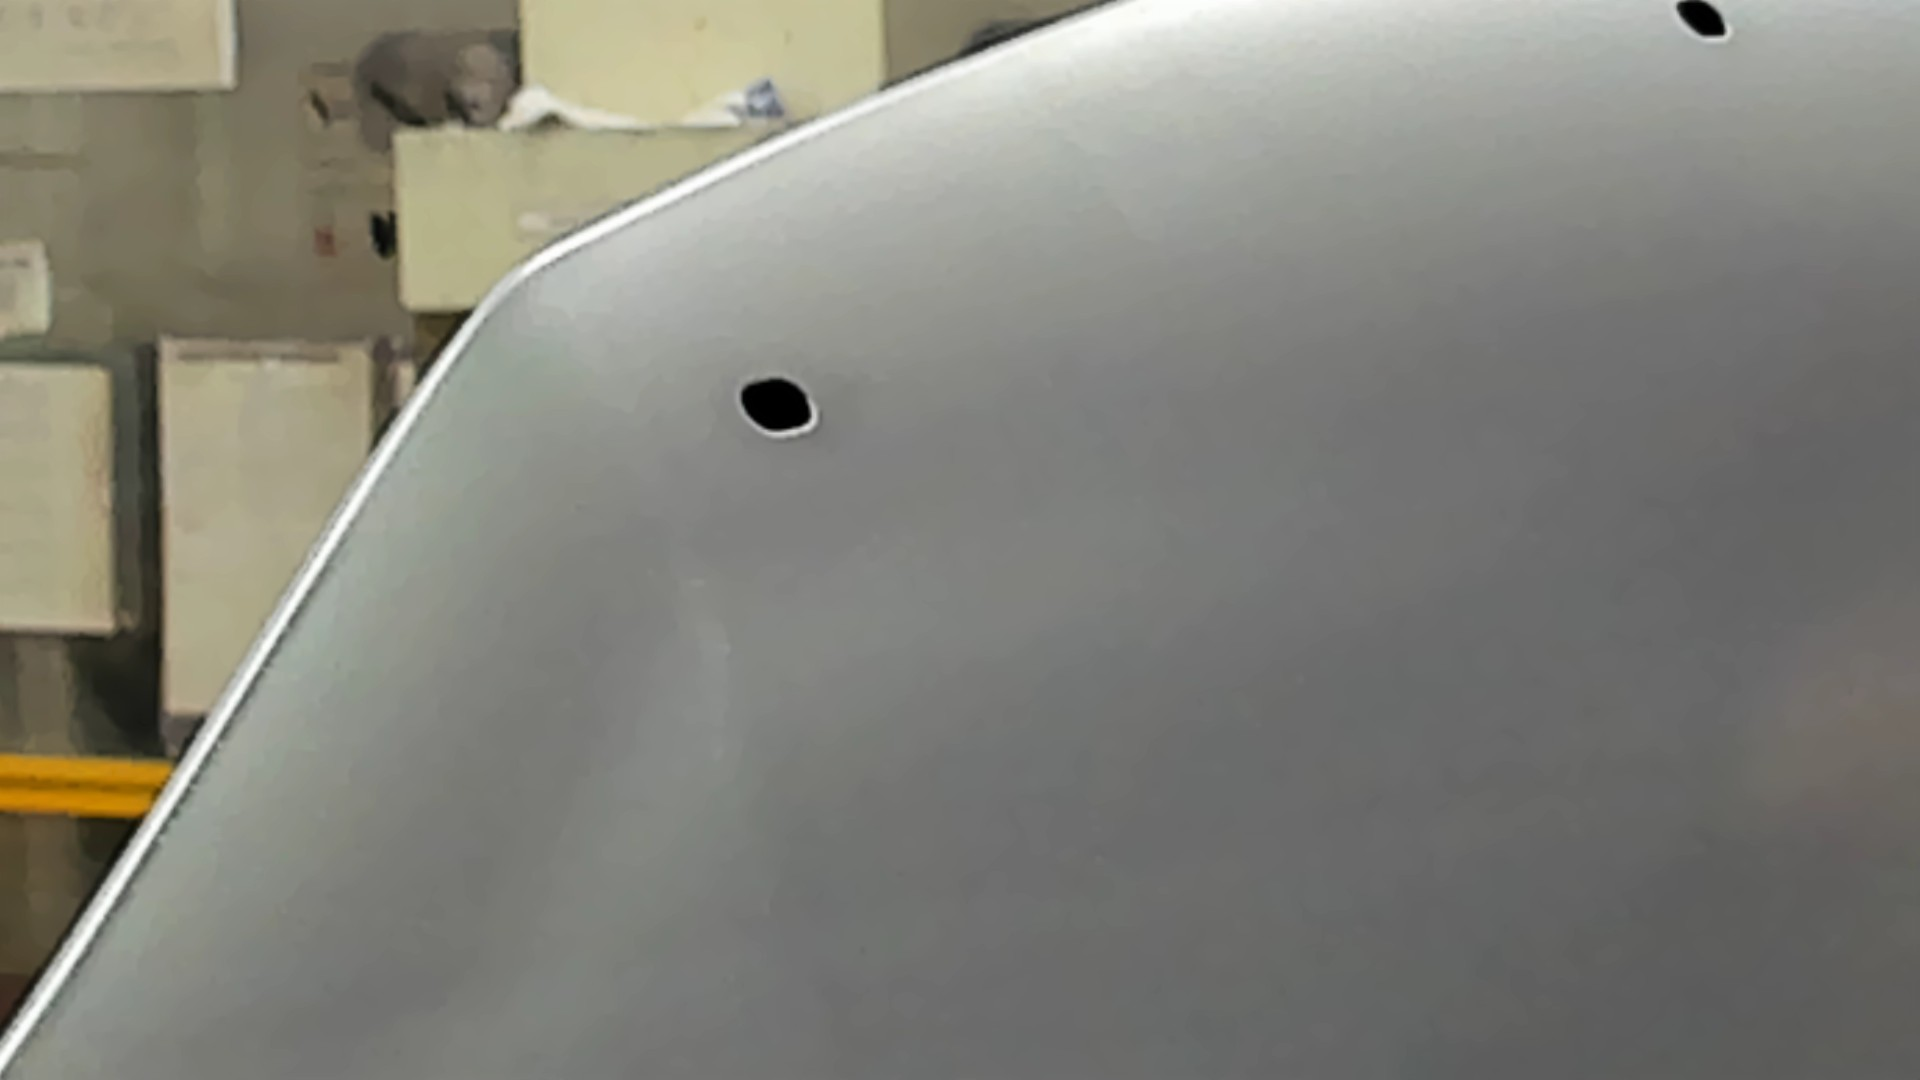amorfo: (733, 375, 829, 447), (1671, 1, 1730, 51)
capo: (899, 120, 1920, 1080)
